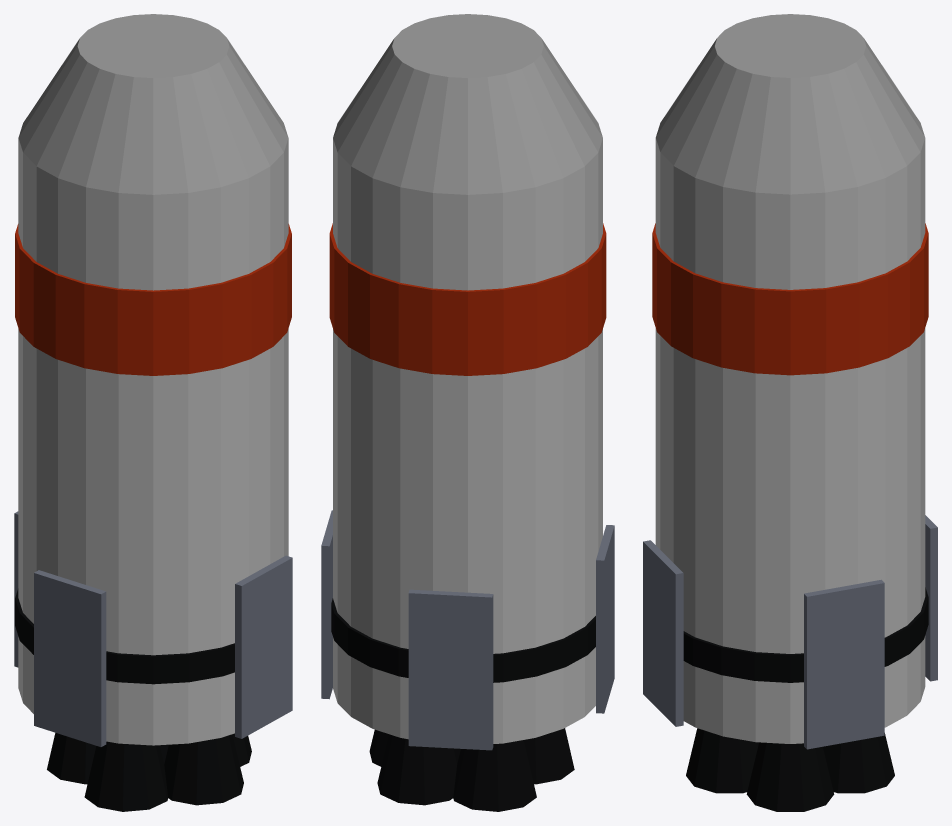
Rendered from rocket_stage.glb.
The picture shows the model from 3 angles, left to right: view 1: azimuth 30°, elevation 25°; view 2: azimuth 150°, elevation 25°; view 3: azimuth 270°, elevation 25°; orthographic projection.
Parts seen in each view (by area): view 1: rocket_stage; view 2: rocket_stage; view 3: rocket_stage.
Part boxes in pixels (left/top/right/bottom): rocket_stage: left=14, top=14, right=292, bottom=811; rocket_stage: left=321, top=14, right=614, bottom=811; rocket_stage: left=643, top=14, right=937, bottom=811.
Bounding box in the file's own units: 0.5775 × 1.56 × 0.5775.
